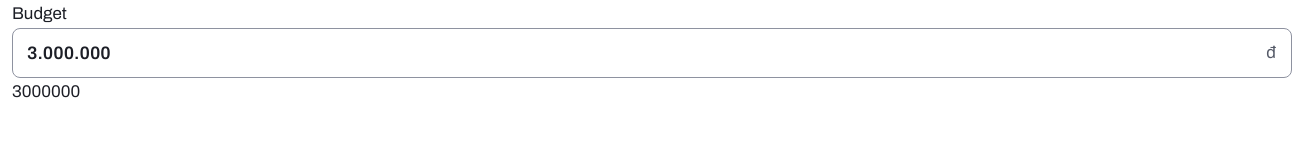
Scenario: MoneyInput editing › deletes the digit beside a separator and keeps the caret in place
The image size is (1304, 160).
Later steps or results of the test are not shown.
Click the field labelled "Budget" at (652, 53), box 12,28 -> 1292,78
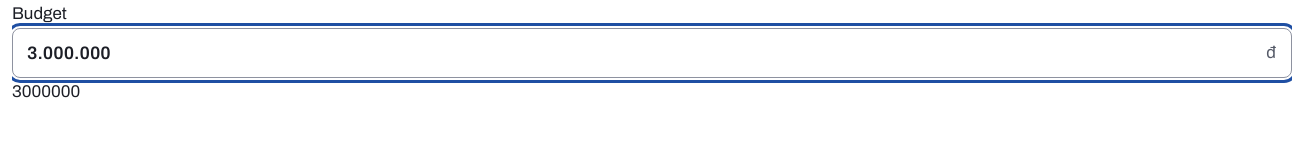
Press Backspace
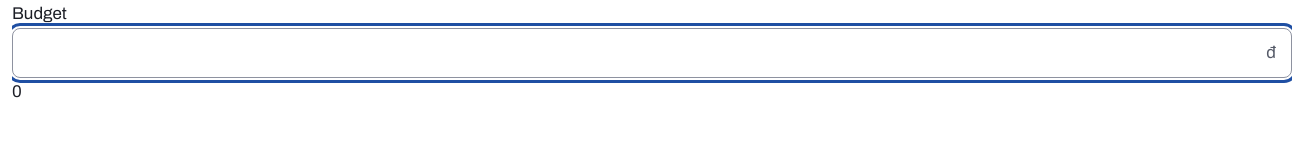
expect the field labelled "Budget" is empty: met, box 12,28 -> 1292,78
